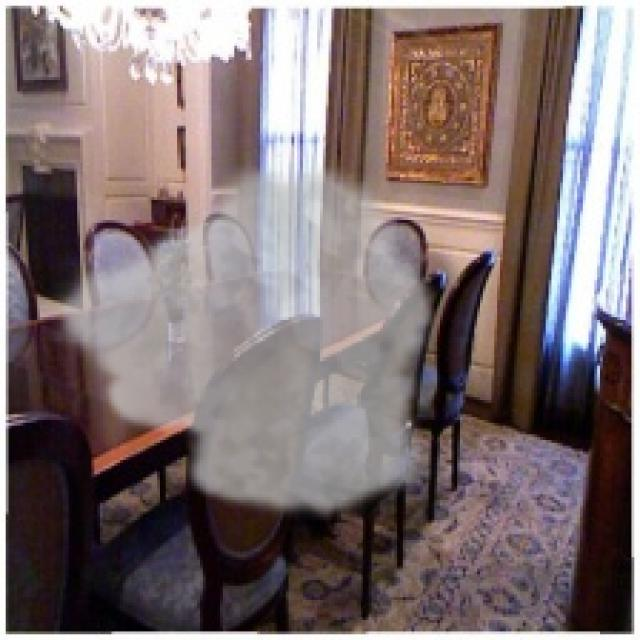smoke: (49, 154, 440, 523)
